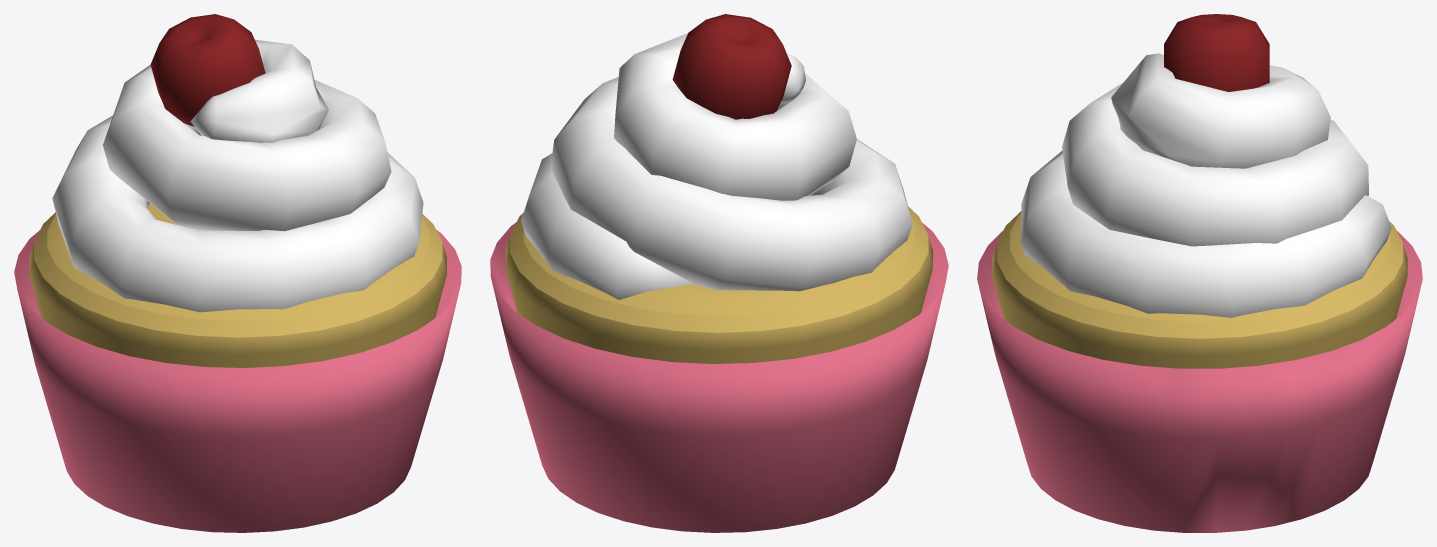
Rendered from cupcake1.fbx.
3 views of the same model, side by side, from view 1: azimuth 30°, elevation 25°; view 2: azimuth 150°, elevation 25°; view 3: azimuth 270°, elevation 25° (orthographic). The views are drawn at different scales.
Visible parts, largest first — view 1: polySurface63, polySurface67, polySurface64, polySurface68; view 2: polySurface63, polySurface67, polySurface64, polySurface68; view 3: polySurface63, polySurface67, polySurface64, polySurface68.
Boxes of the visible parts, x1,y1,x2,y2 form: polySurface63: [52, 39, 423, 312]; polySurface67: [14, 230, 461, 532]; polySurface64: [29, 203, 446, 367]; polySurface68: [150, 14, 265, 126]; polySurface63: [521, 33, 912, 299]; polySurface67: [490, 222, 948, 532]; polySurface64: [505, 206, 932, 363]; polySurface68: [672, 14, 791, 119]; polySurface63: [1021, 53, 1391, 317]; polySurface67: [977, 231, 1422, 532]; polySurface64: [992, 211, 1407, 368]; polySurface68: [1164, 14, 1269, 91].
Size of the model in its own units: 5.72 by 6.19 by 5.73.
